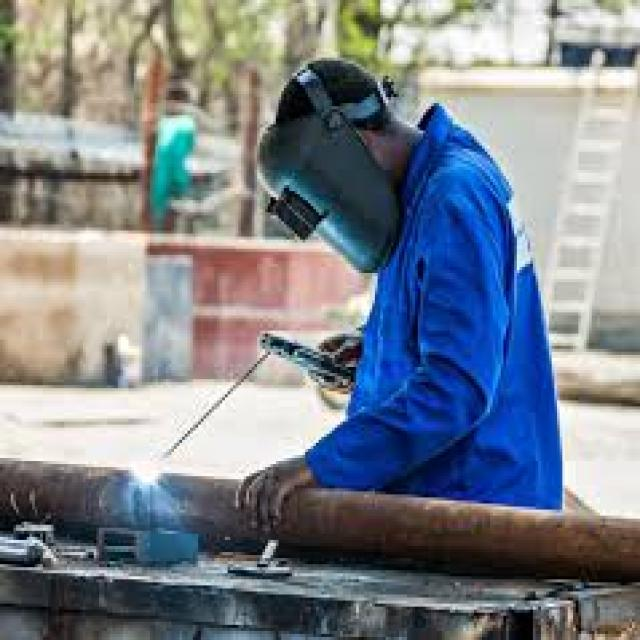welding: (132, 449, 161, 484)
